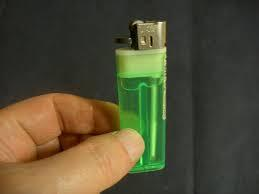lighter: (117, 19, 164, 172)
